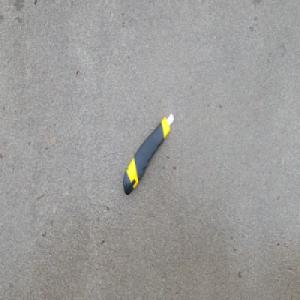Cutter: (122, 111, 175, 197)
